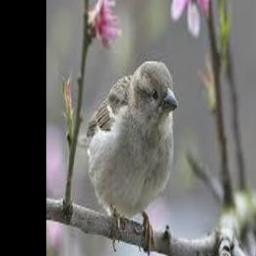Sparrow: (77, 60, 179, 256)
